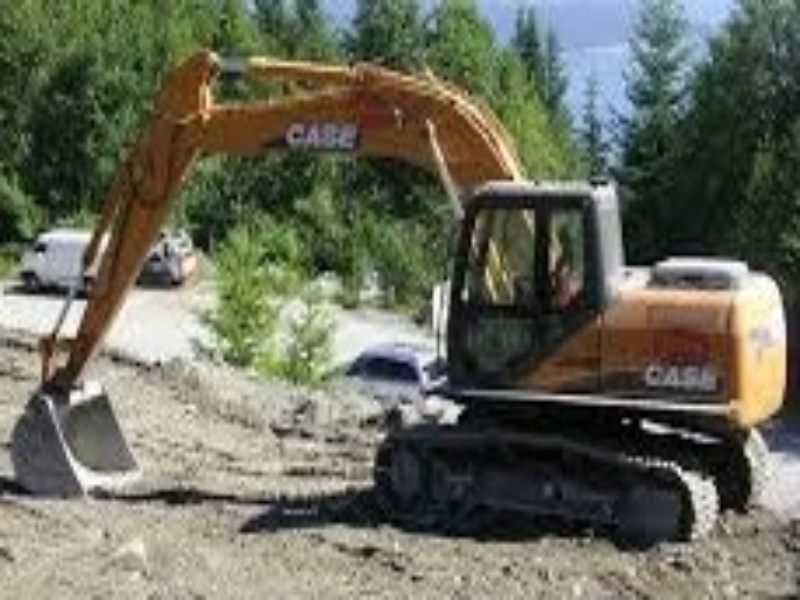wajueji: (342, 118, 800, 574)
